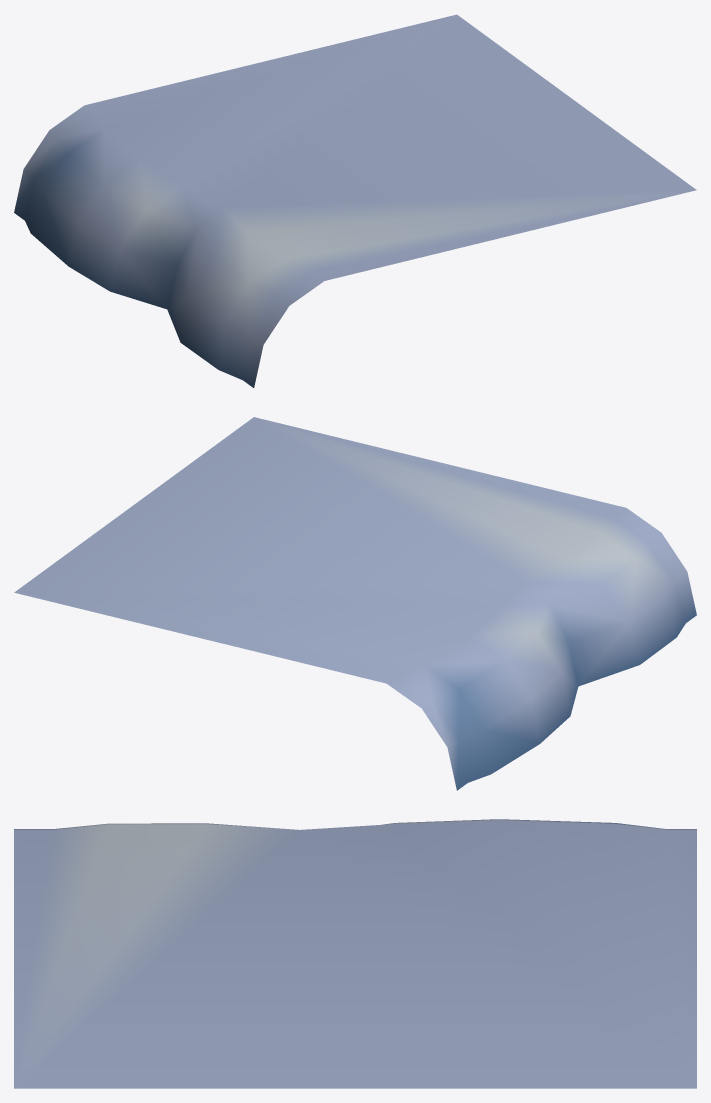
Rendered from Surface_RoadUp00.fbx.
3 renders of one model, top to bottom at view 1: azimuth 30°, elevation 25°; view 2: azimuth 150°, elevation 25°; view 3: azimuth 270°, elevation 25°, orthographic. The views are drawn at different scales.
Parts seen in each view (by area): view 1: Surface_RoadUp00; view 2: Surface_RoadUp00; view 3: Surface_RoadUp00.
Boxes of the visible parts, <box> form: Surface_RoadUp00: <box>14,14,696,387</box>; Surface_RoadUp00: <box>14,417,696,790</box>; Surface_RoadUp00: <box>14,819,696,1088</box>.
Bounding box in the file's own units: 2199 × 415 × 2000.
